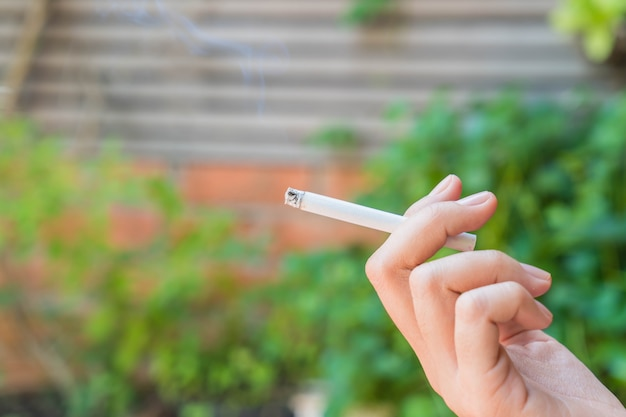cigarette: (283, 186, 477, 256)
